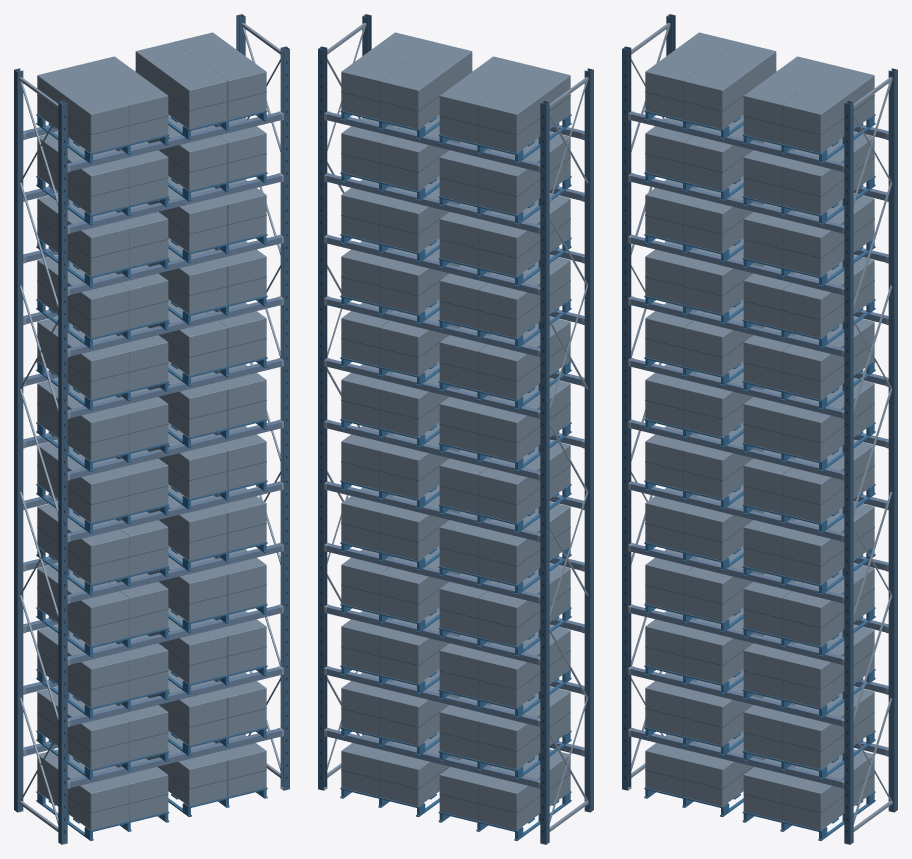
The model's file is SM_GHS_CADRack_B_W29505.fbx.
3 renders of one model, left to right at view 1: azimuth 30°, elevation 25°; view 2: azimuth 150°, elevation 25°; view 3: azimuth 330°, elevation 25°, orthographic.
Parts seen in each view (by area): view 1: SM_GHS_CADRack_B_W29505; view 2: SM_GHS_CADRack_B_W29505; view 3: SM_GHS_CADRack_B_W29505.
Part boxes in pixels (x1,y1,x2,y2): SM_GHS_CADRack_B_W29505: (14, 14, 289, 844); SM_GHS_CADRack_B_W29505: (318, 14, 593, 844); SM_GHS_CADRack_B_W29505: (622, 14, 897, 844).
Size of the model in its own units: 295 by 122 by 915.
